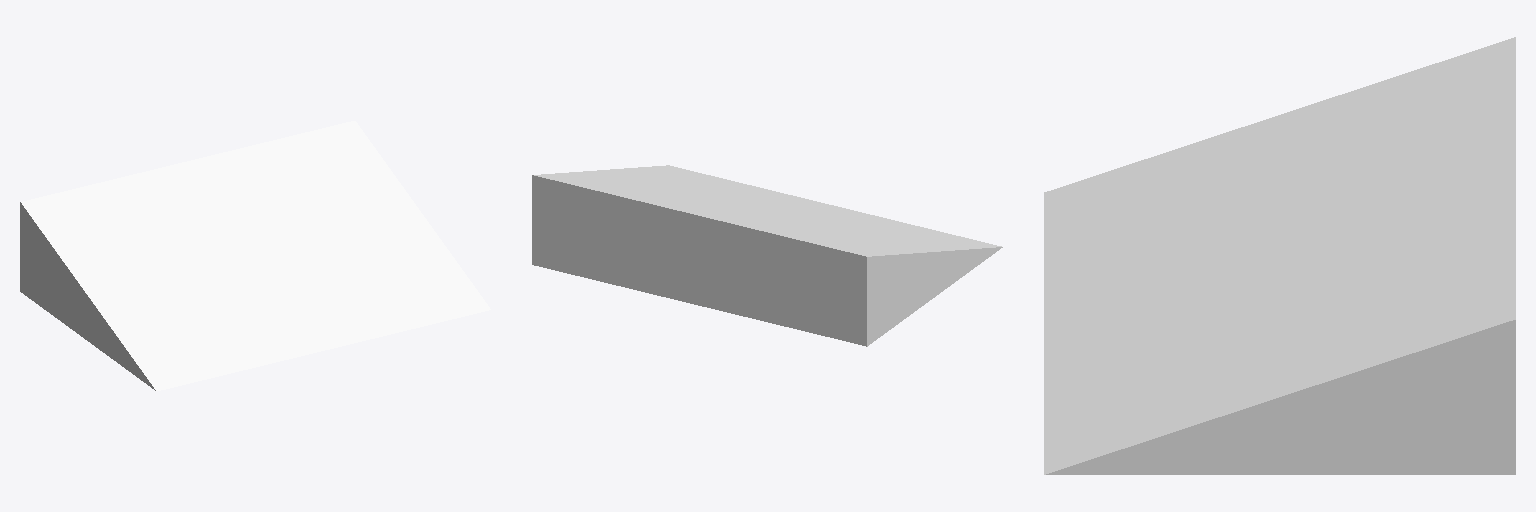
URDF robot description (large_ramp_20deg):
<?xml version="1.0" ?>
<robot name="large_ramp_20deg">
	<link name="base_link">
		<visual>
			<origin xyz="0 0 0" rpy="0 0 0" />
			<geometry>
				<mesh filename="large_ramp_20deg.stl" scale="1.0 1.0 1.0" />
			</geometry>
			<material name="texture">
				<color rgba="1.0 1.0 1.0 1.0" />
			</material>
		</visual>
		<collision>
			<geometry>
				<mesh filename="large_ramp_20deg.stl" scale="1.0 1.0 1.0" />
			</geometry>
		<origin xyz="0 0 0" rpy="0 0 0" /></collision>
		<inertial>
			<mass value="1000.0" />
			<inertia ixx="1.0" ixy="0.0" ixz="0.0" iyy="1.0" iyz="0.0" izz="1.0" />
		</inertial>
	</link>
</robot>

--- Facts derived from the render (not from the file) ---
The picture shows the robot from 3 angles, left to right: view 1: azimuth 30°, elevation 25°; view 2: azimuth 150°, elevation 25°; view 3: azimuth 270°, elevation 25°; orthographic projection.
Robot: large_ramp_20deg — 1 links, 0 joints (none); root link base_link; default pose: every joint at zero.
Visible links, largest first — view 1: base_link; view 2: base_link; view 3: base_link.
Boxes of the visible links, x1,y1,x2,y2 form: base_link: [20, 121, 490, 390]; base_link: [532, 165, 1002, 346]; base_link: [1044, 37, 1515, 474].
Bounding box of the posed robot: 4.88 × 3.44 × 1.25 m (x, y, z).
Meshes: 1 distinct files referenced, 1 mesh visuals loaded (1 binary STL).